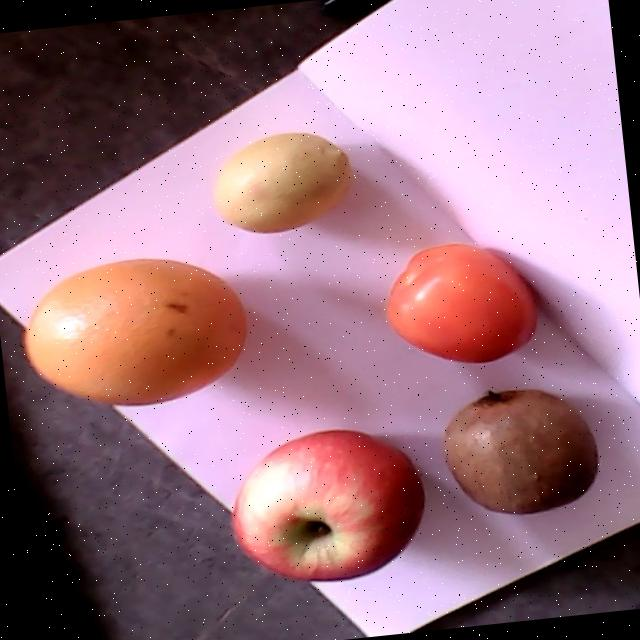apple: (233, 430, 424, 579)
kiwi: (445, 388, 598, 513)
lemon: (215, 132, 353, 233)
orange: (24, 257, 244, 404)
tomato: (386, 243, 538, 363)
